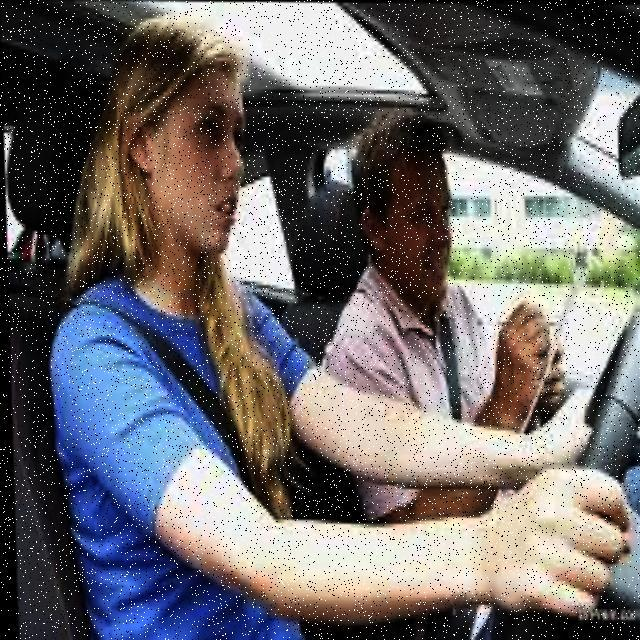seatbelt: (48, 294, 290, 534), (358, 274, 496, 435)
